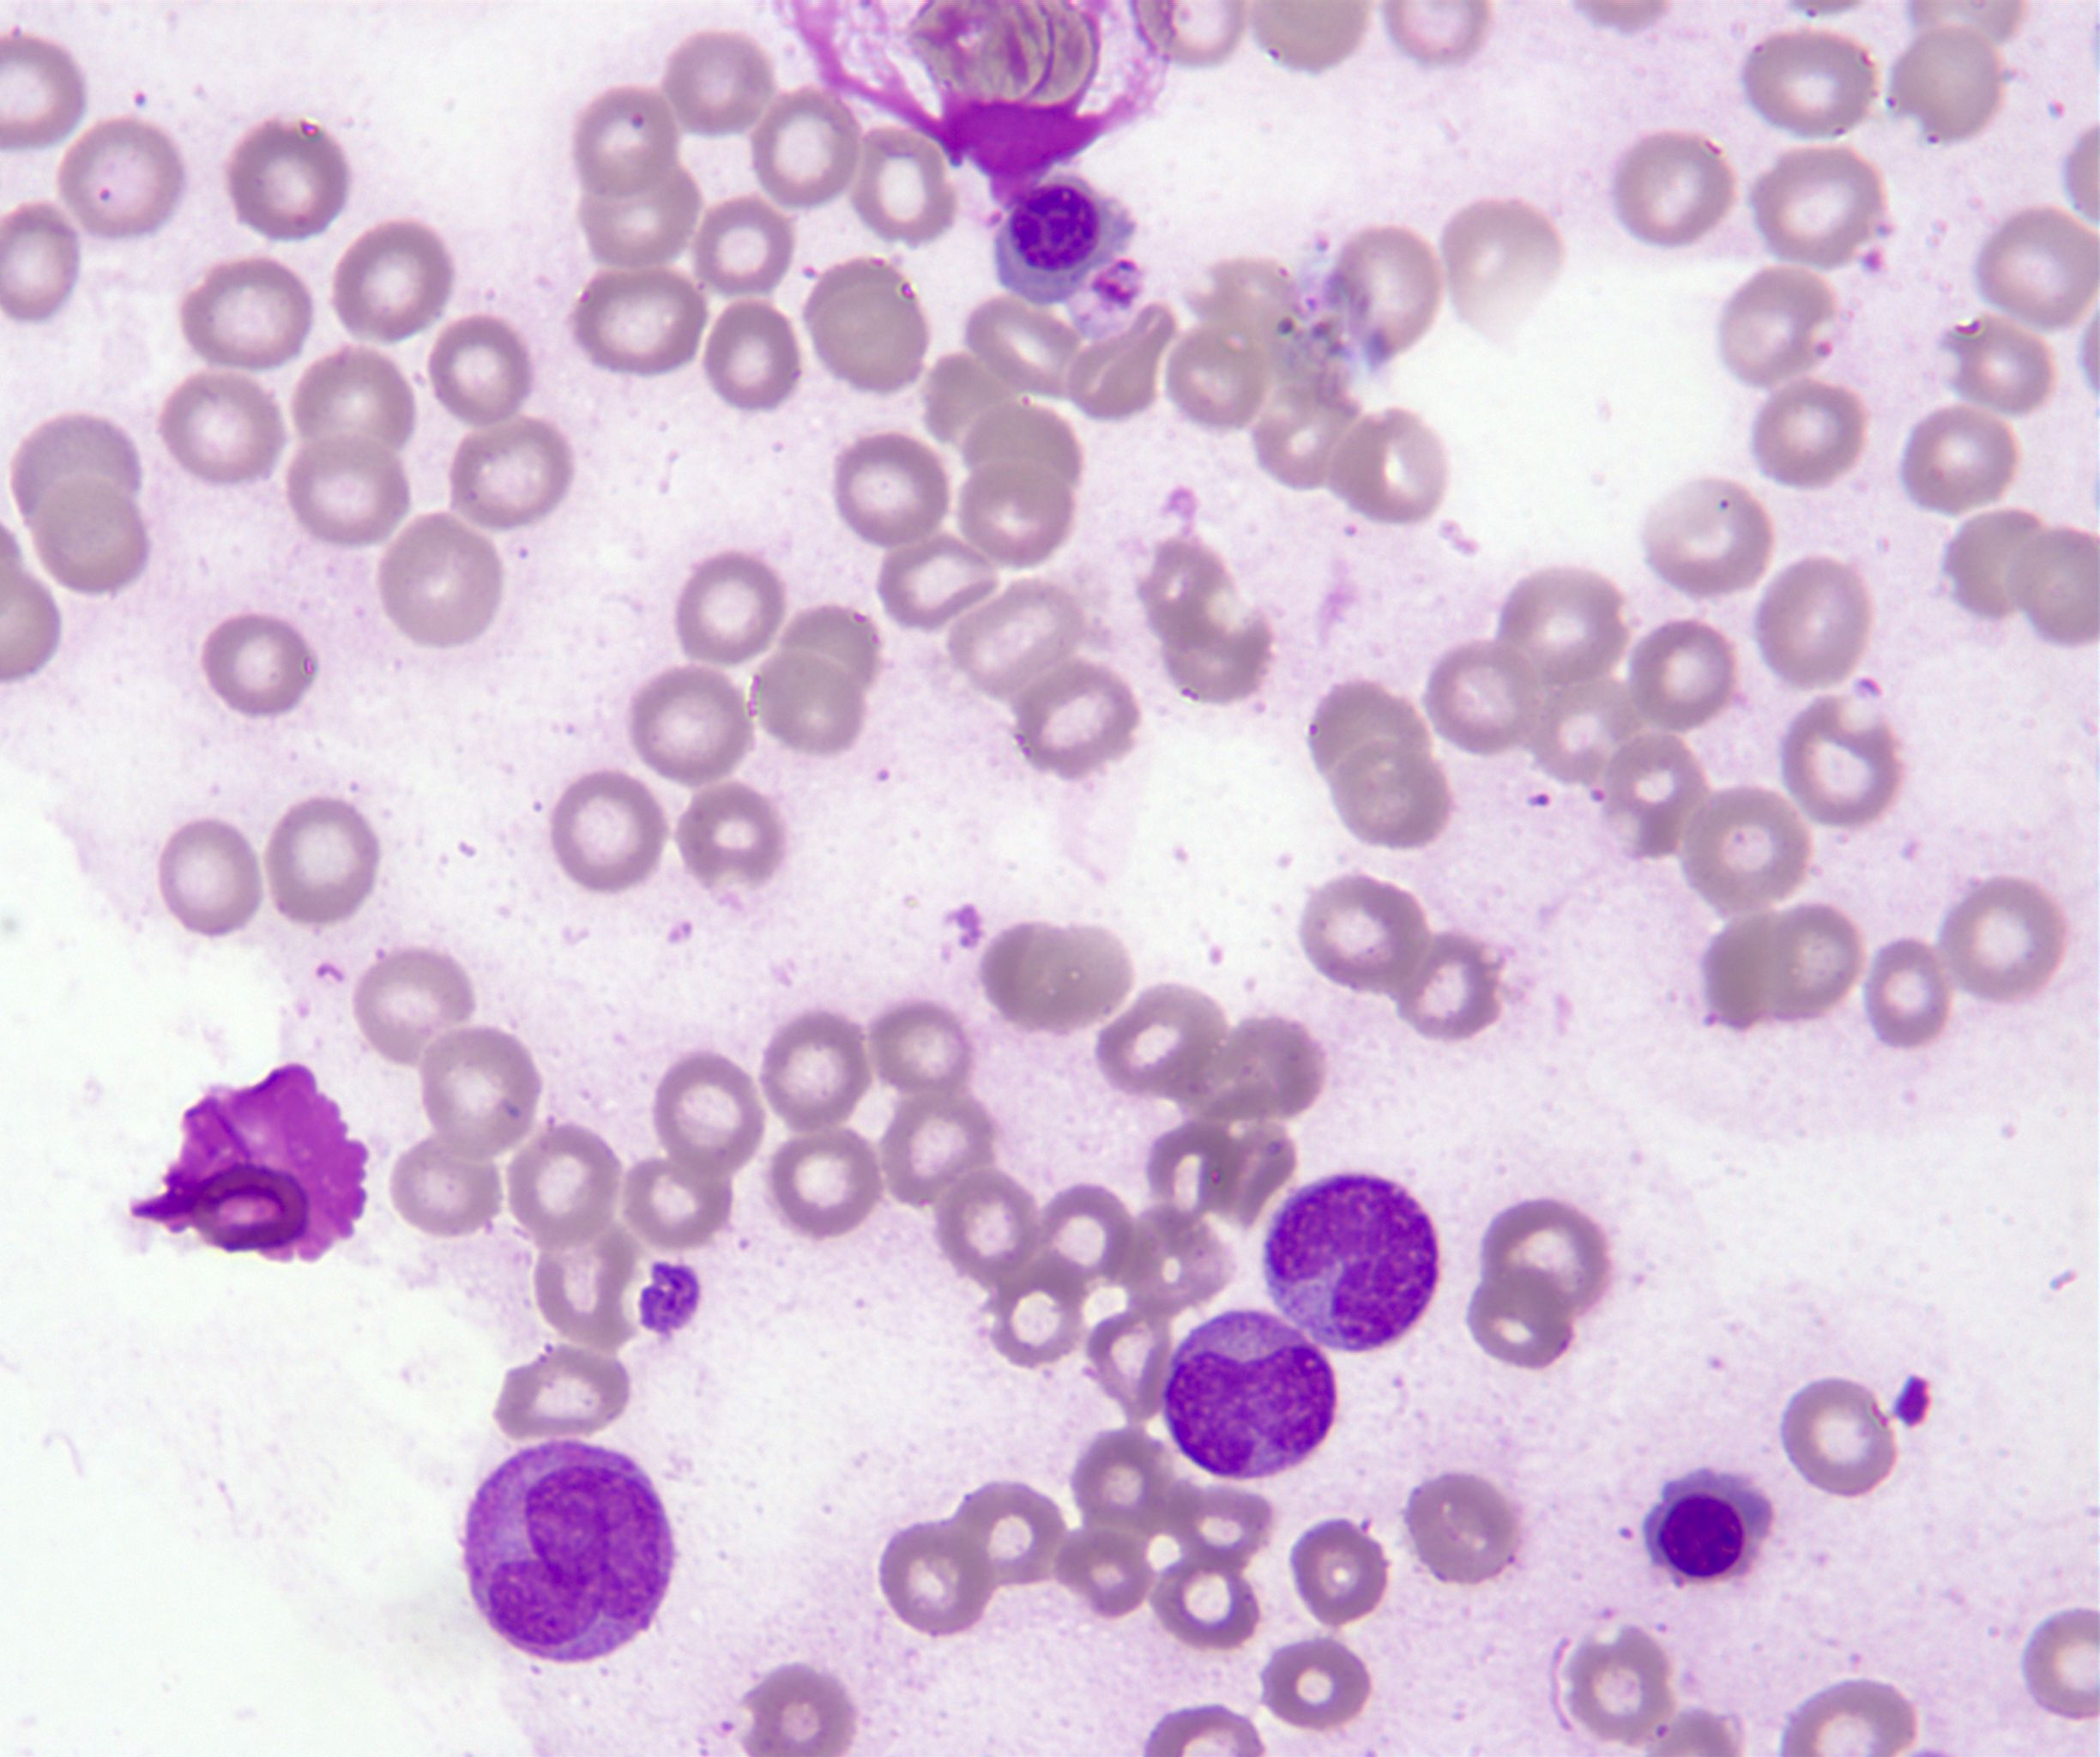23: (998, 173, 1137, 305)
24: (1641, 1471, 1774, 1584)
42: (466, 1441, 675, 1665), (1265, 1171, 1442, 1350), (1165, 1312, 1336, 1480)
x: (127, 1066, 370, 1261)
